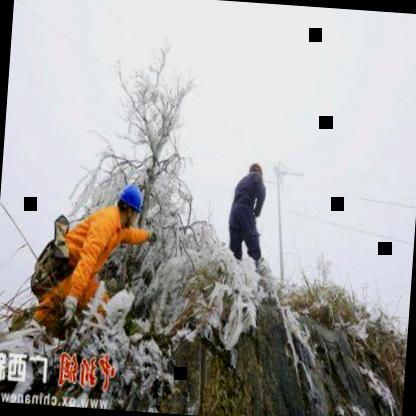helmet: (113, 180, 146, 228), (246, 158, 264, 184)
